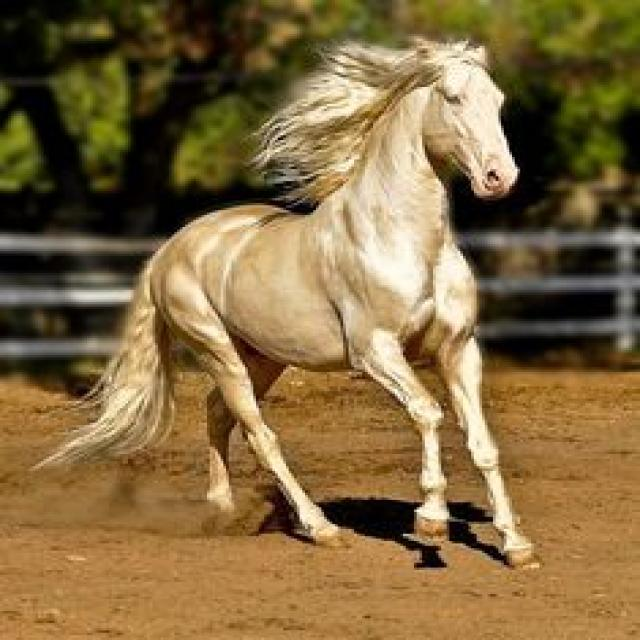Herbivorous: (33, 36, 539, 570)
